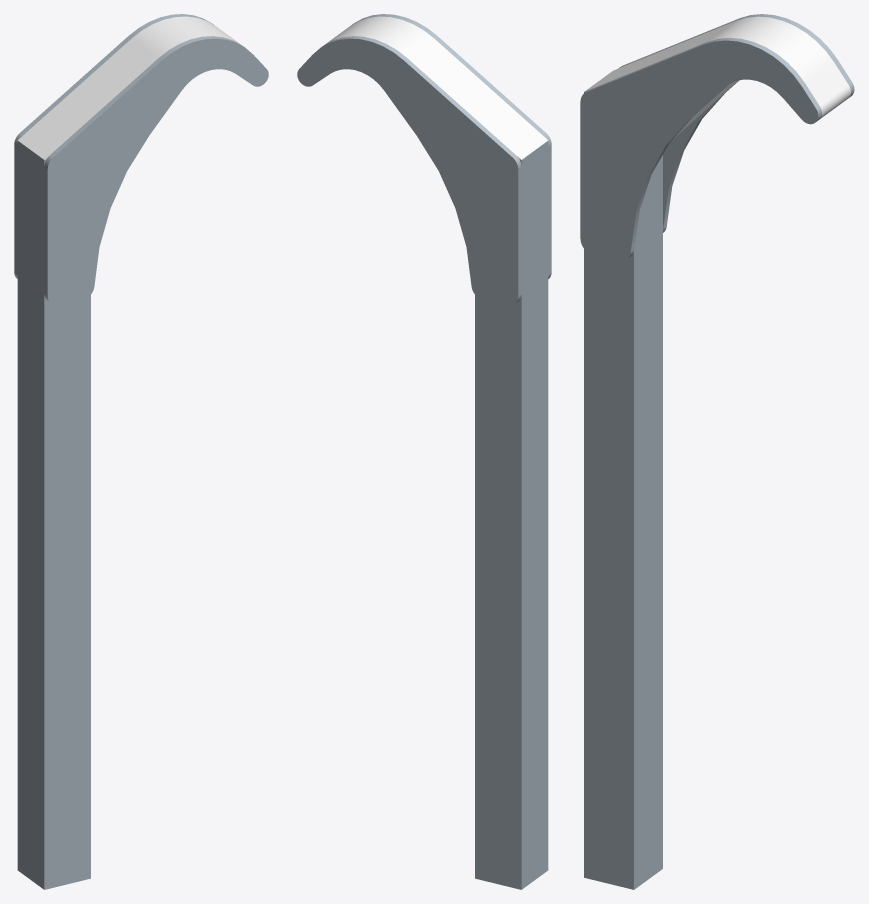
The picture shows the model from 3 angles, left to right: view 1: azimuth 30°, elevation 25°; view 2: azimuth 150°, elevation 25°; view 3: azimuth 330°, elevation 25°; orthographic projection. The views are drawn at different scales.
Size of the model in its own units: 0.1207 by 0.4254 by 0.0317.
